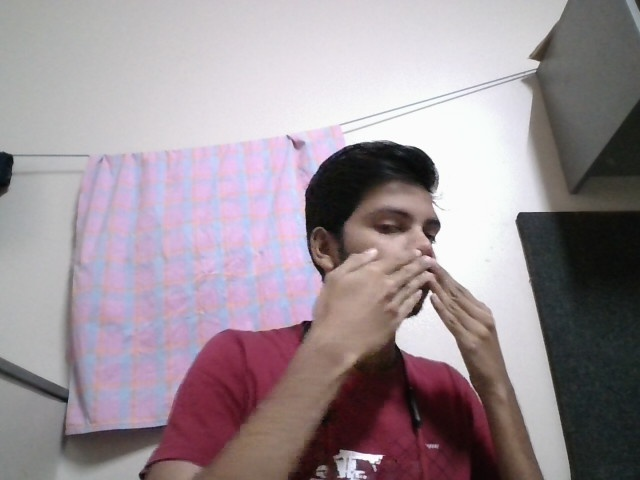Thank You: (313, 248, 512, 371)
